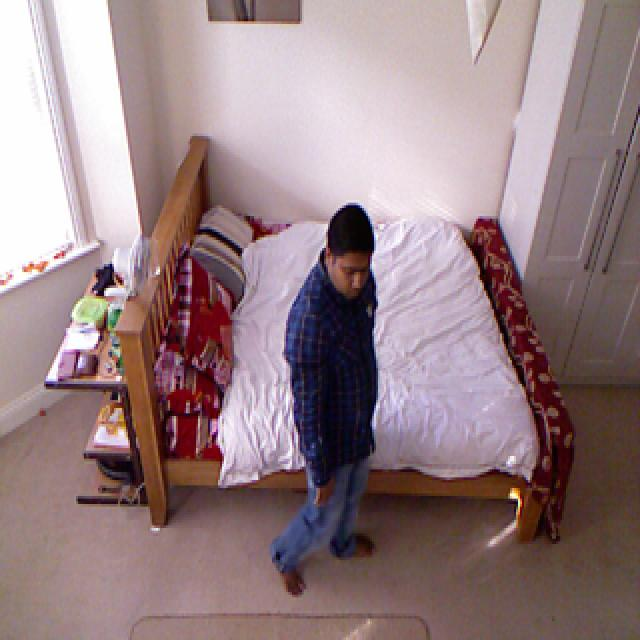standing: (280, 207, 383, 588)
